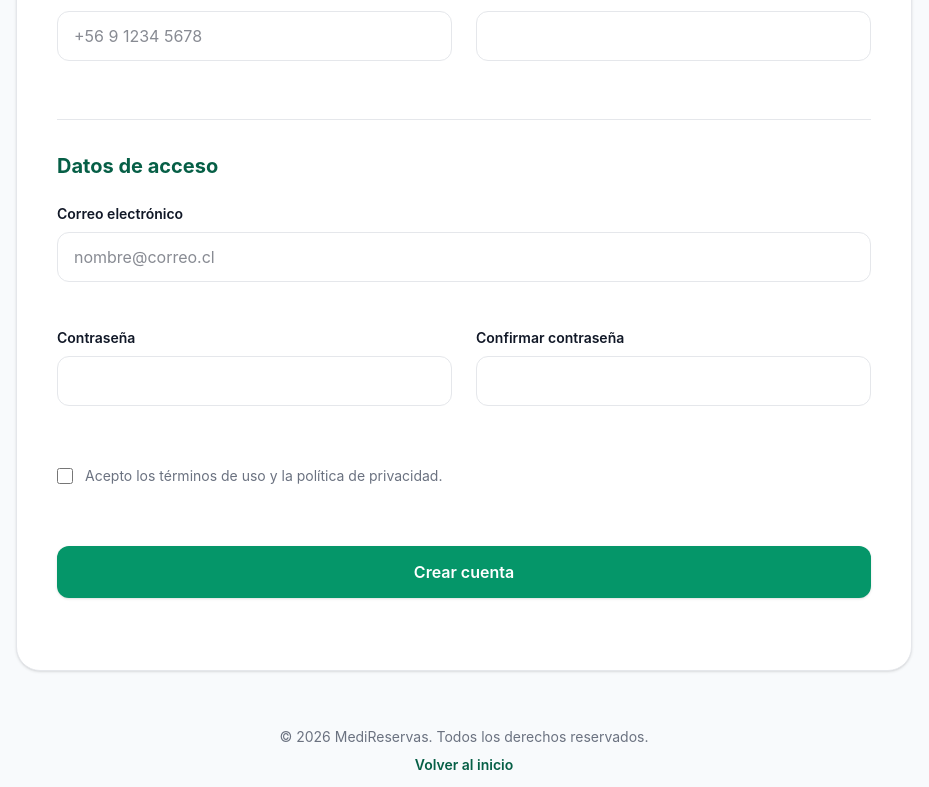
Test case: Requisitos de las páginas públicas › CP-083 · RF-02 · registro presenta errores al enviar campos vacíos
(page scrolled)
Step 1. Click the button "Crear cuenta" → (464, 572), box 57,546 -> 871,598
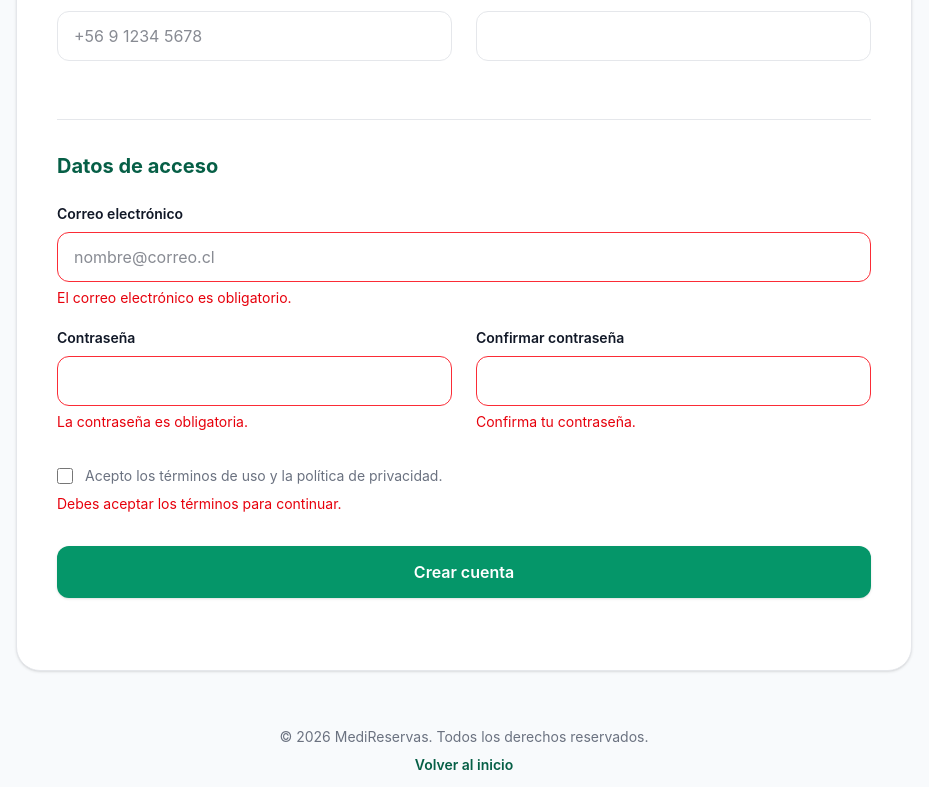
Expected: the text "Debes aceptar los términos para continuar." is shown, 57,495 -> 342,512
